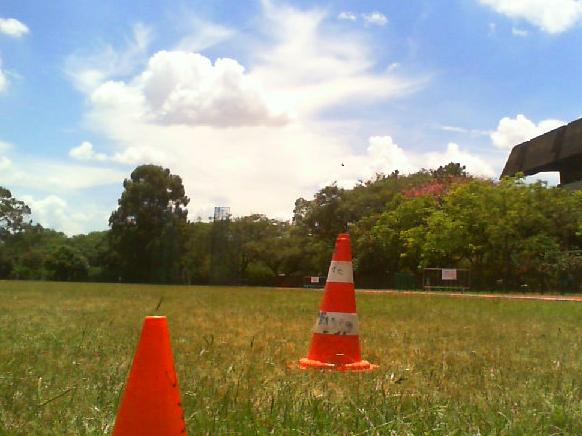0 cone: (284, 234, 378, 374), (102, 316, 191, 436)
